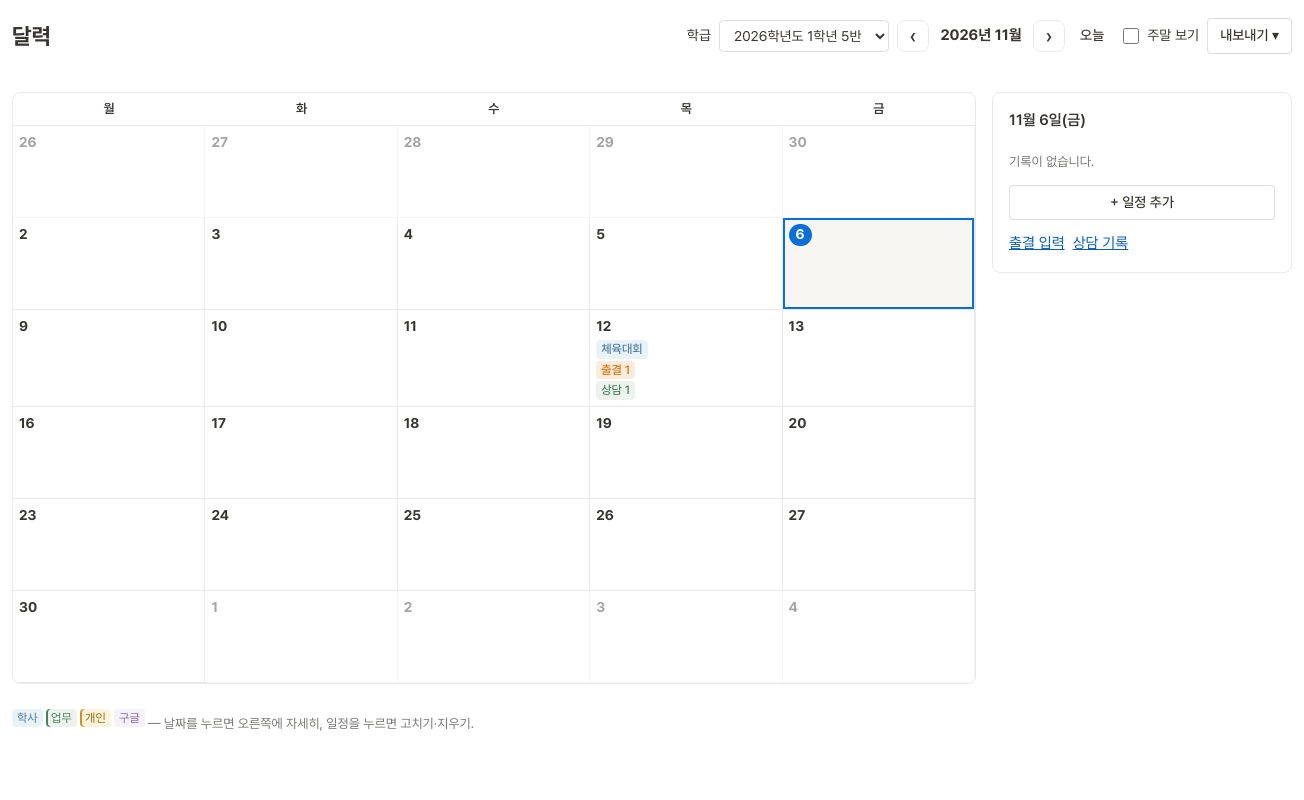
한 달에 학사일정·출결·상담이 함께 보이고, 날짜를 누르면 자세히
Expected: the text "체육대회" is shown, [596, 340, 648, 359]
Expected: the text "출결 1" is shown, [596, 361, 635, 379]
Click the cell named "11월 12일" at point(686, 359), box [590, 310, 783, 407]
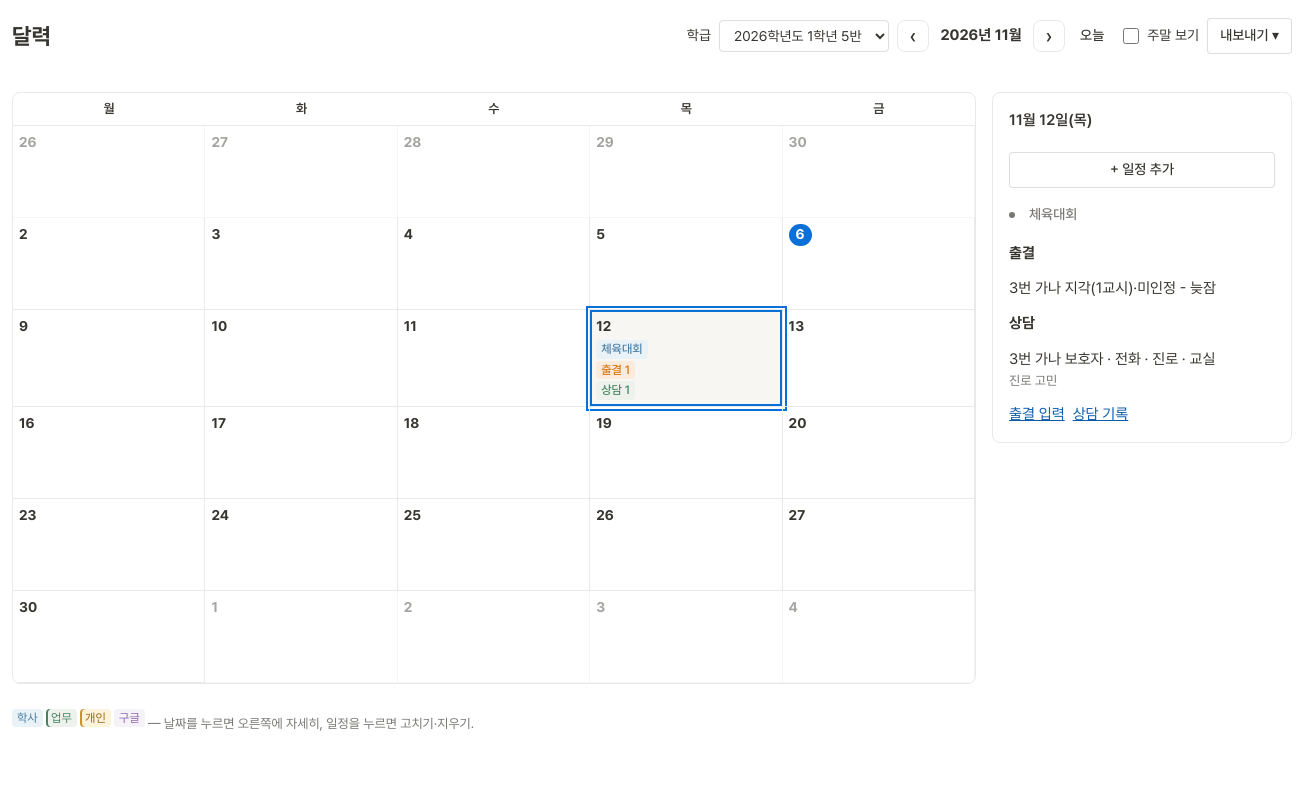
Now the heading "11월 12일(목)" is shown, box [1009, 109, 1092, 132]
Now the list item "3번 가나 지각(1교시)·미인정 - 늦잠" is shown, box [1009, 277, 1216, 300]
Now the list item "3번 가나 보호자 · 전화 · 진로 · 교실 진로 고민" is shown, box [1009, 348, 1215, 391]
Click the checkbox labelled "주말 보기" at point(1131, 36), box [1123, 28, 1139, 44]
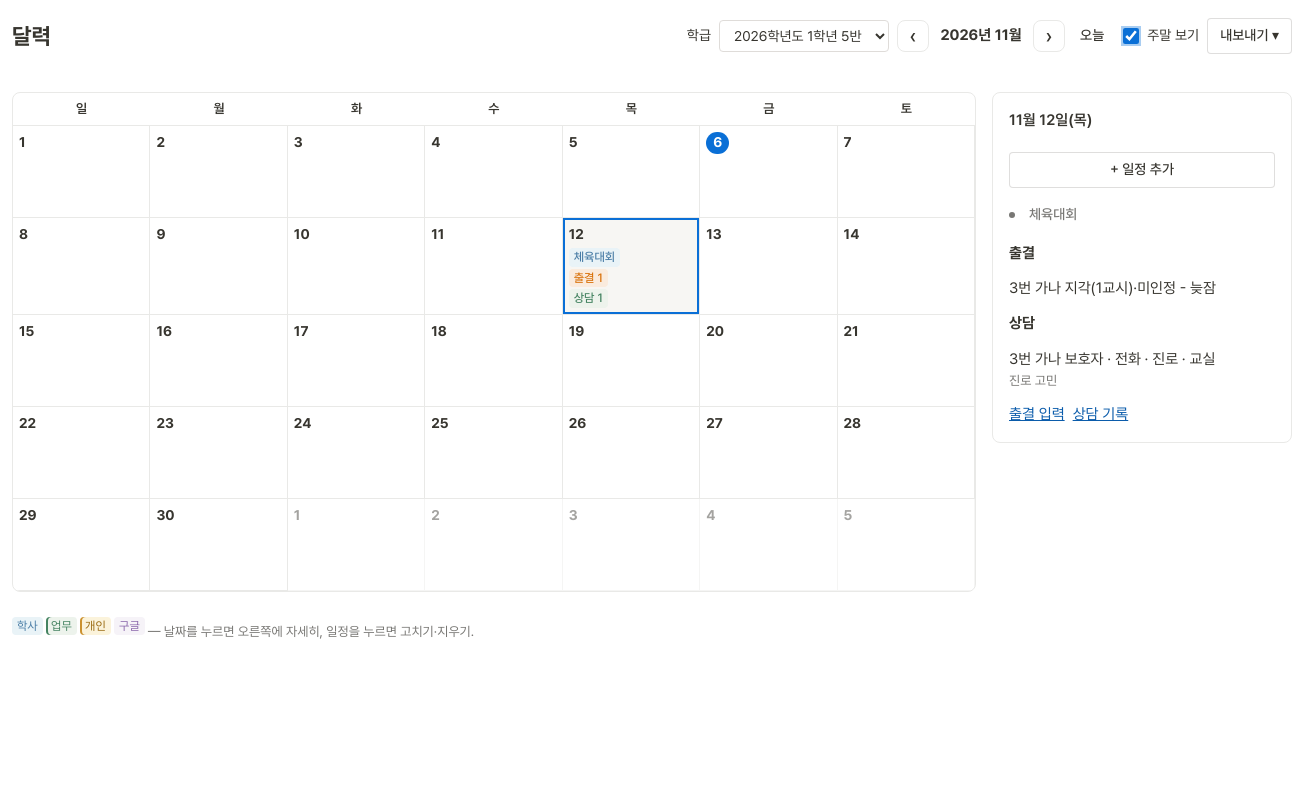
Now the column heading "토" is shown, box [838, 93, 975, 126]
Click the button named "다음 달" at point(1049, 36), box [1033, 20, 1065, 52]
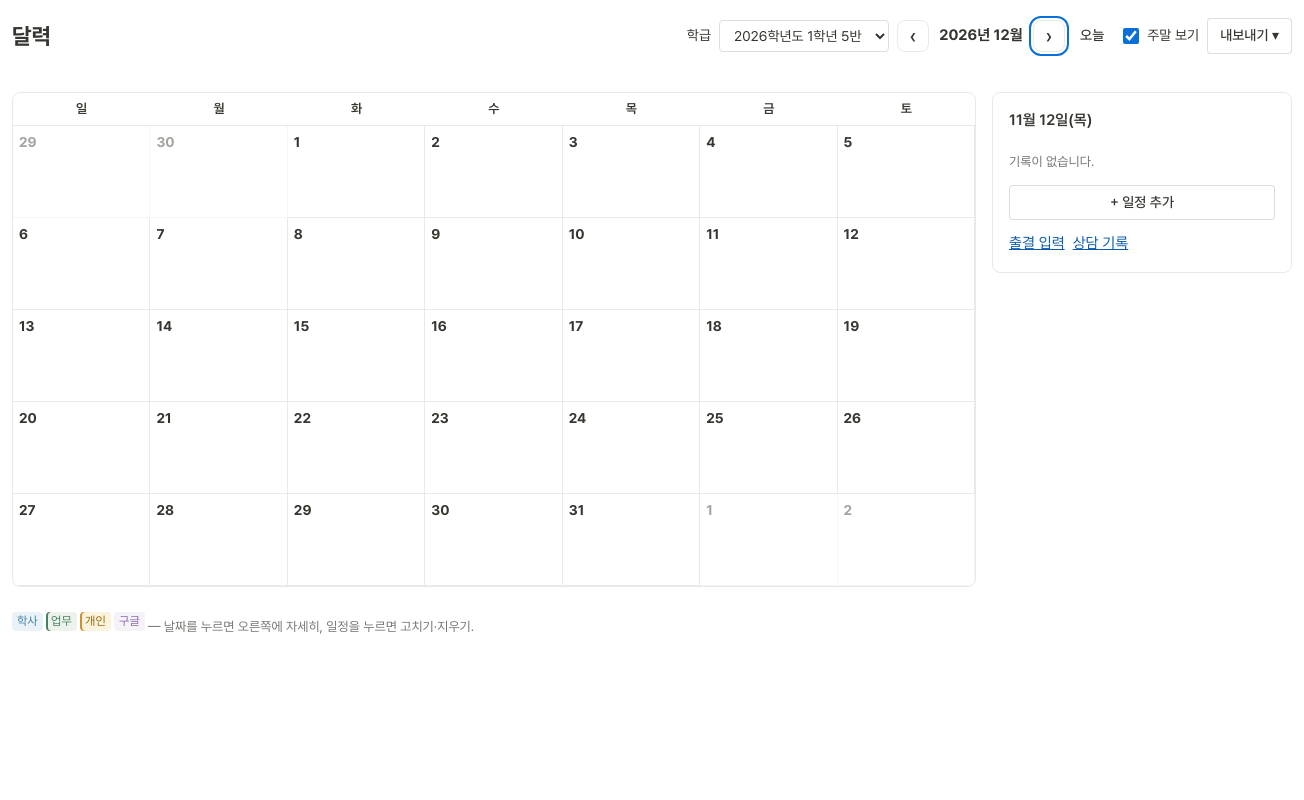
Now the text "2026년 12월" is shown, box [933, 24, 1029, 48]
